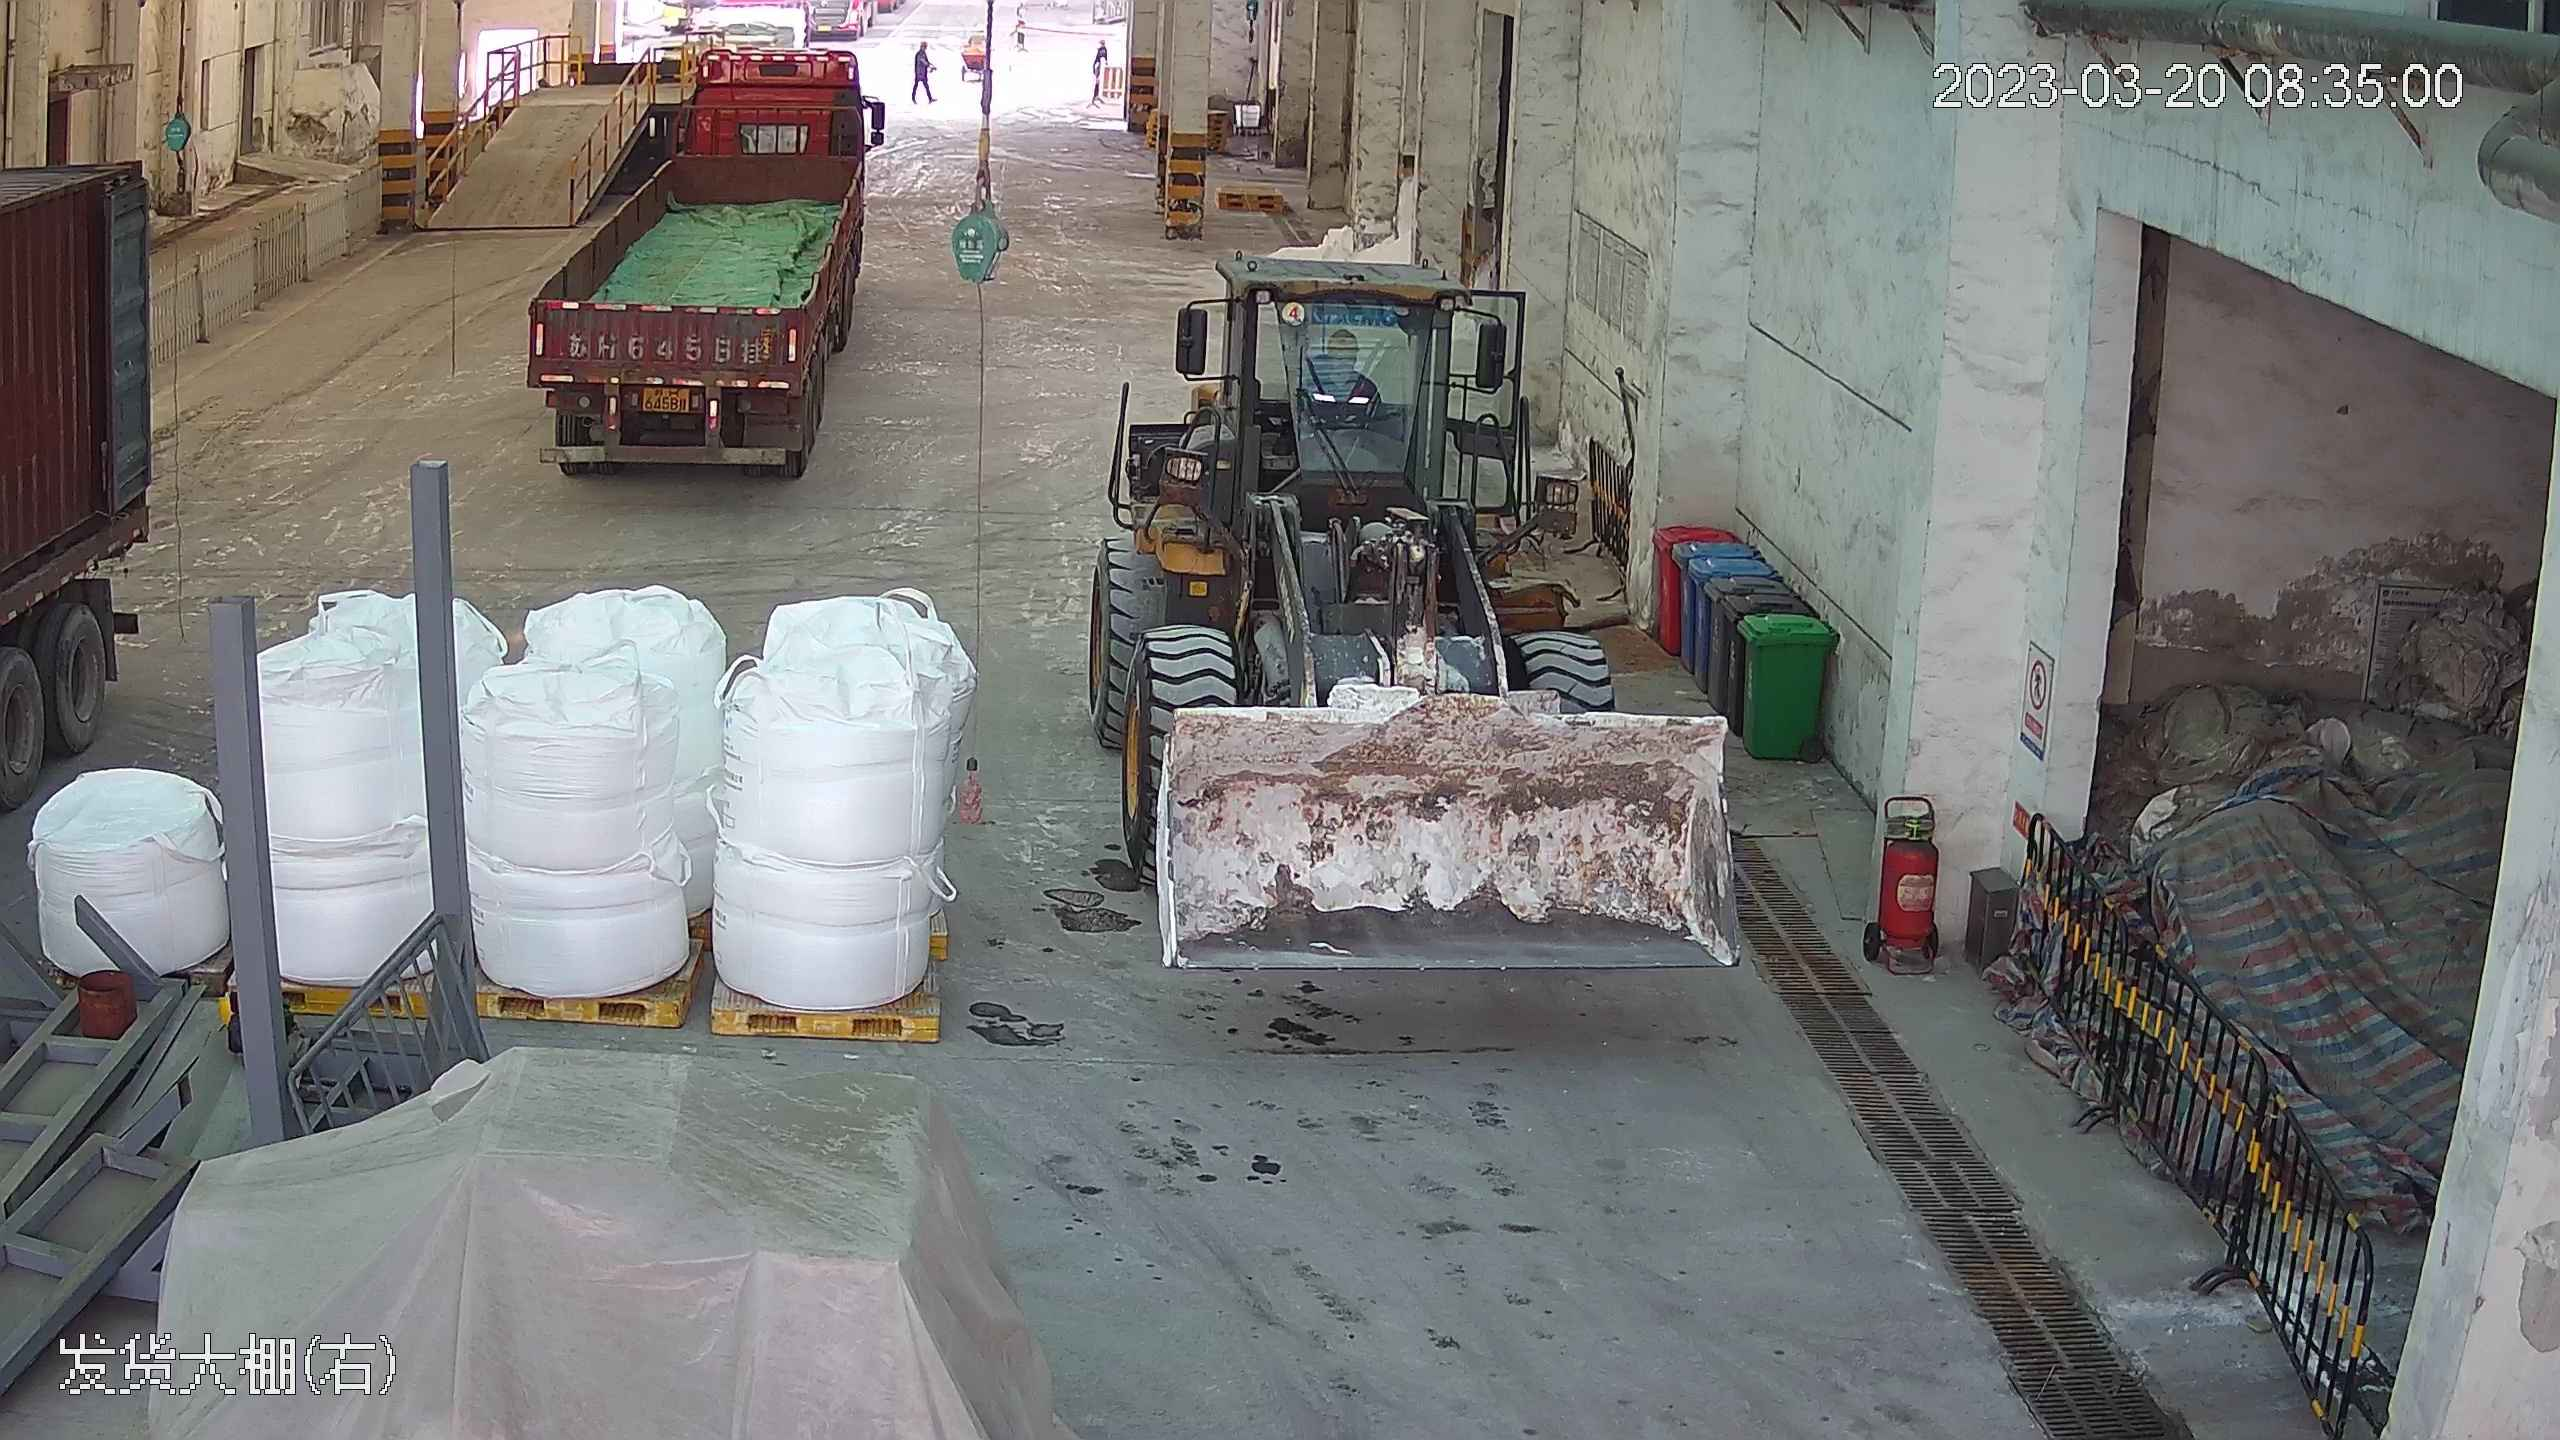people: (911, 33, 939, 110), (964, 34, 988, 112)
truck: (511, 21, 875, 483), (1, 137, 163, 897)
